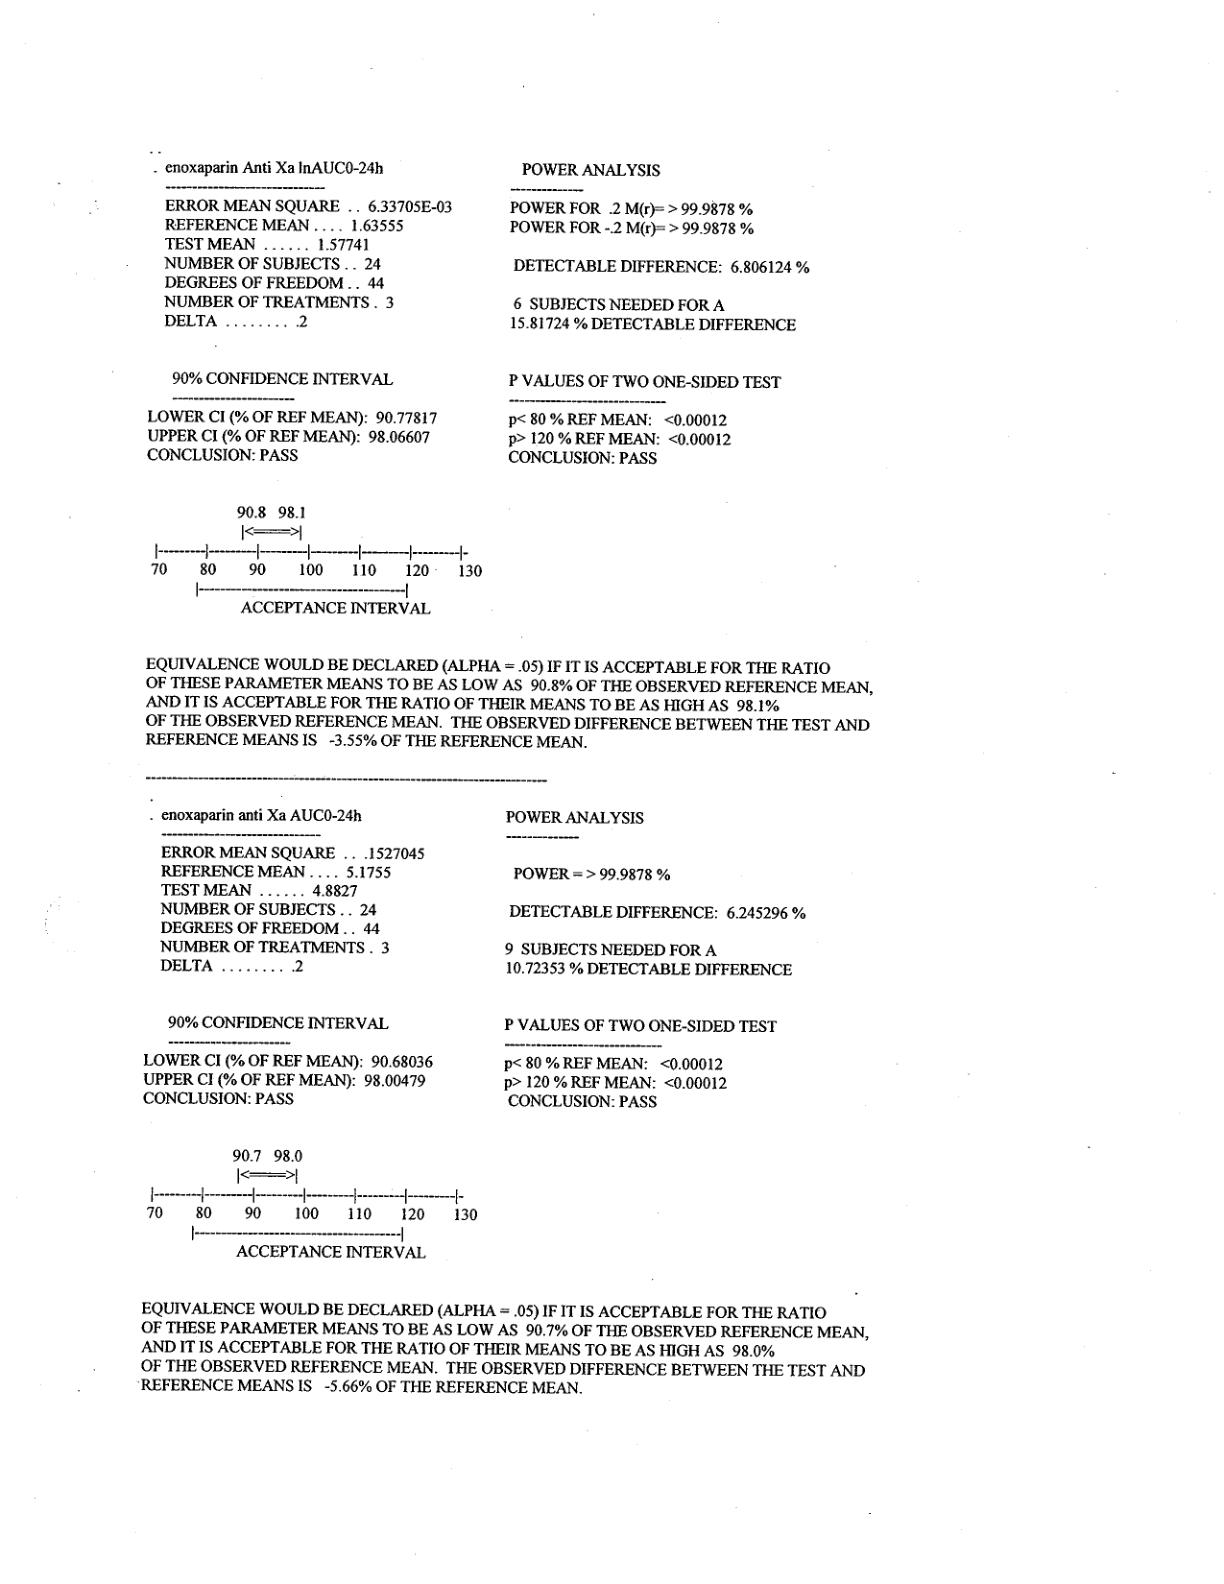nolines: (141, 804, 813, 1113), (147, 159, 813, 471)
